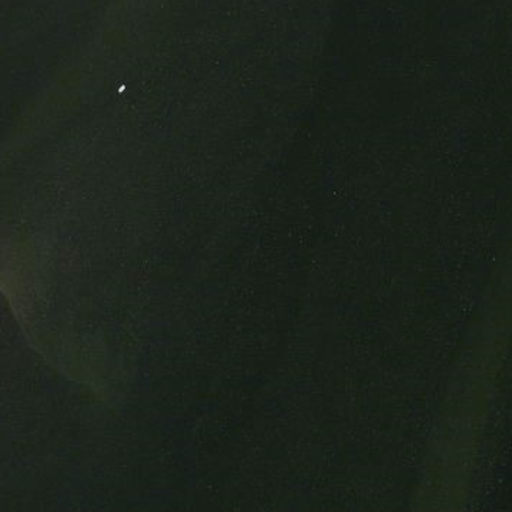ship: (114, 82, 129, 95)
